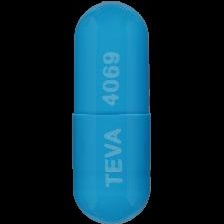0093-4069: (0, 0, 224, 224)
